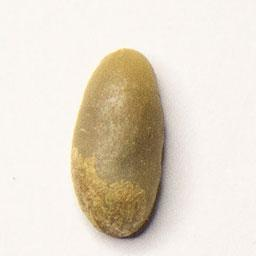longberry: (67, 45, 169, 241)
